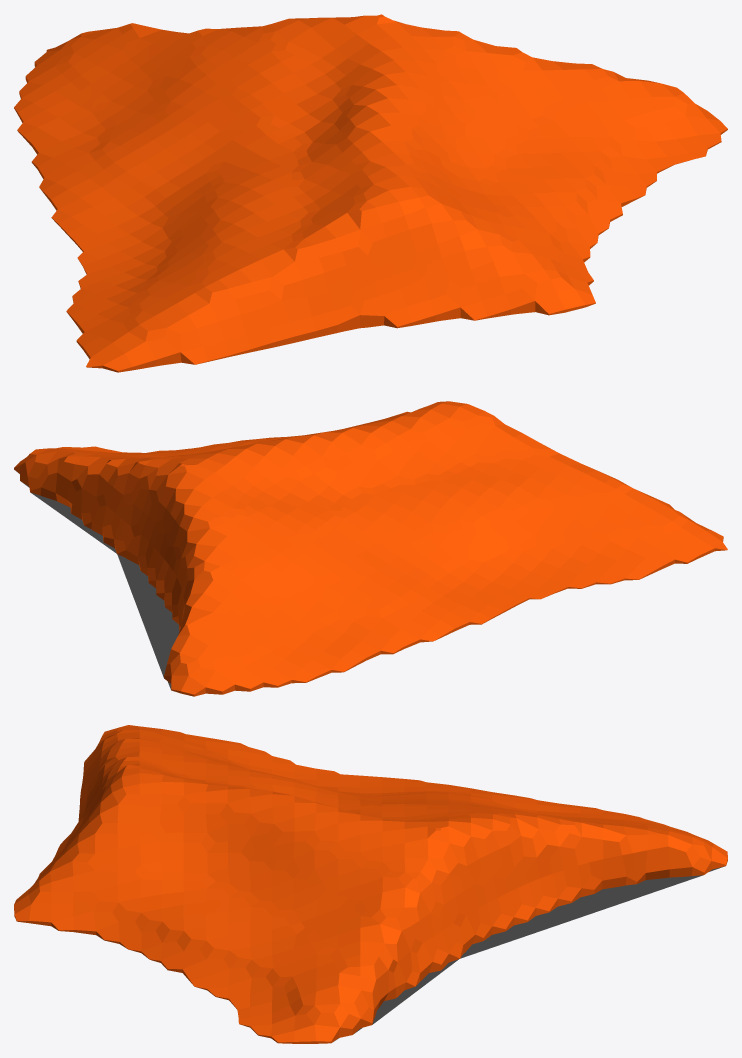
The picture shows the model from 3 angles, top to bottom: view 1: azimuth 30°, elevation 25°; view 2: azimuth 150°, elevation 25°; view 3: azimuth 270°, elevation 25°; orthographic projection. The views are drawn at different scales.
Visible parts, largest first — view 1: 19.006; view 2: 19.006; view 3: 19.006.
Part boxes in pixels (left/top/right/bottom): 19.006: left=14, top=14, right=727, bottom=372; 19.006: left=14, top=401, right=727, bottom=696; 19.006: left=14, top=725, right=727, bottom=1043.
Bounding box in the file's own units: 17.07 × 2.51 × 16.17.
